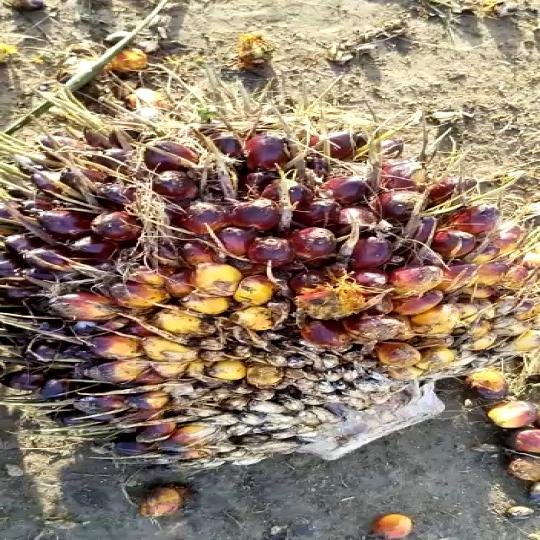mentah: (0, 116, 514, 466)
